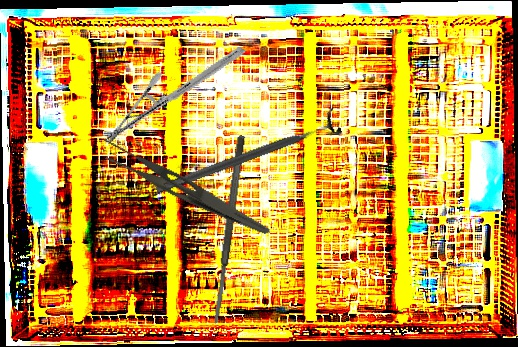Dressing Forceps: (91, 134, 280, 238)
Fixation Ring: (151, 106, 343, 204)
Needle Holder: (103, 11, 247, 179)
Spatula Surgical: (210, 134, 247, 326)
